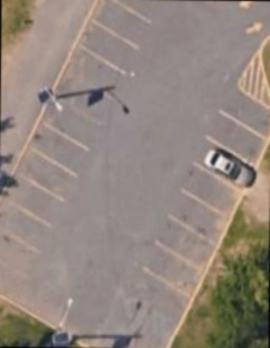parkingspot: (0, 0, 172, 311), (137, 78, 270, 304)
